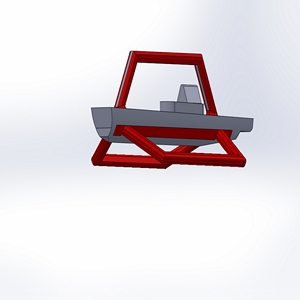submarine: (72, 27, 269, 184)
